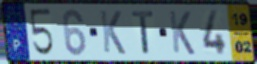4: (201, 8, 229, 57)
5: (28, 7, 55, 57)
6: (61, 7, 88, 57)
K: (167, 9, 197, 57), (98, 9, 127, 57)
T: (130, 10, 156, 56)
